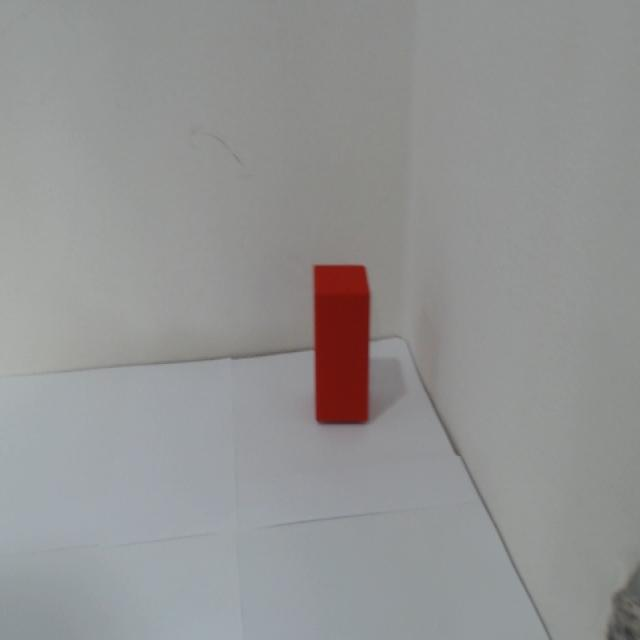cube: (313, 262, 372, 424)
